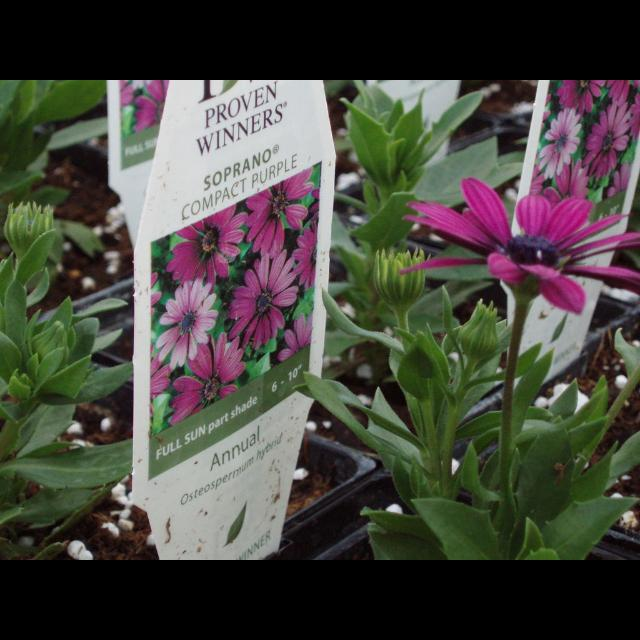Flower: (150, 160, 320, 438), (402, 170, 630, 316), (527, 80, 639, 220), (116, 80, 166, 138)
